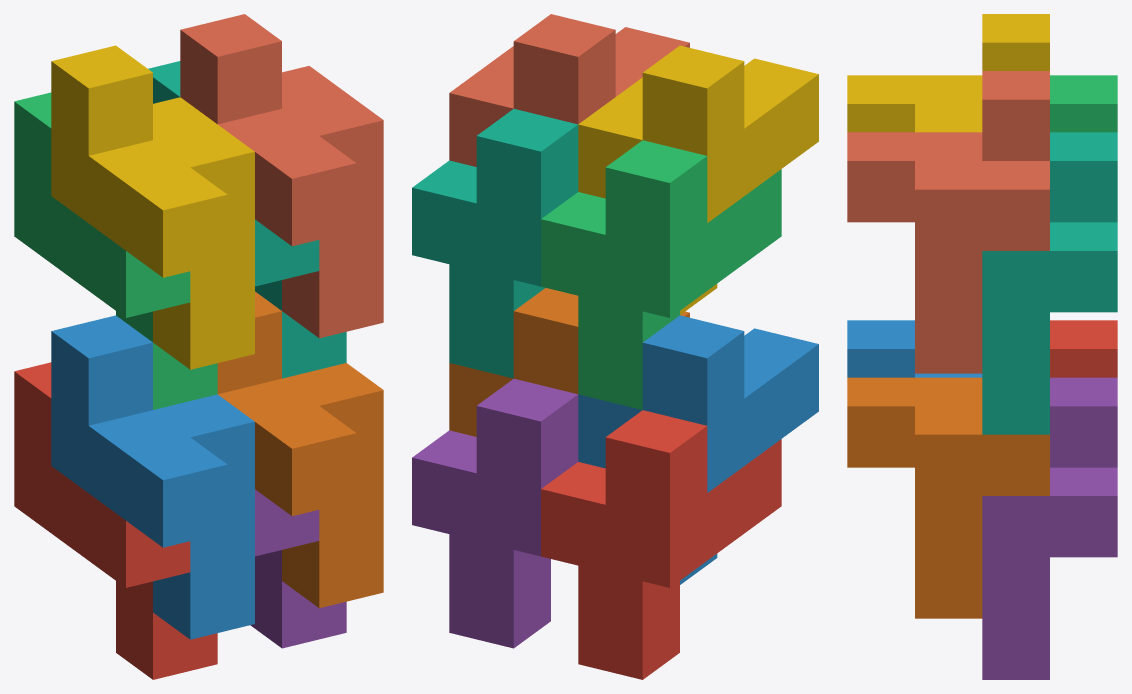
The model's file is tiling.obj.
3 views of the same model, side by side, from view 1: azimuth 30°, elevation 25°; view 2: azimuth 150°, elevation 25°; view 3: azimuth 270°, elevation 25° (orthographic). The views are drawn at different scales.
Parts seen in each view (by area): view 1: copy_1_domain_4, copy_1_domain_2, copy_1_domain_8, copy_1_domain_6, copy_1_domain_1, copy_1_domain_3, copy_1_domain_5, copy_1_domain_7; view 2: copy_1_domain_1, copy_1_domain_3, copy_1_domain_5, copy_1_domain_7, copy_1_domain_4, copy_1_domain_2, copy_1_domain_8, copy_1_domain_6; view 3: copy_1_domain_8, copy_1_domain_6, copy_1_domain_5, copy_1_domain_7, copy_1_domain_4, copy_1_domain_2, copy_1_domain_1, copy_1_domain_3.
Boxes of the visible parts, box(x1,y1,x2,y2) form: copy_1_domain_4: box(51, 45, 254, 369); copy_1_domain_2: box(51, 315, 254, 639); copy_1_domain_8: box(180, 14, 383, 338); copy_1_domain_6: box(217, 291, 383, 608); copy_1_domain_1: box(14, 362, 217, 679); copy_1_domain_3: box(14, 92, 217, 409); copy_1_domain_5: box(250, 489, 346, 648); copy_1_domain_7: box(148, 61, 346, 378); copy_1_domain_1: box(541, 410, 781, 679); copy_1_domain_3: box(541, 140, 781, 409); copy_1_domain_5: box(412, 378, 578, 648); copy_1_domain_7: box(412, 109, 578, 378); copy_1_domain_4: box(578, 45, 818, 314); copy_1_domain_2: box(578, 315, 818, 584); copy_1_domain_8: box(449, 14, 689, 166); copy_1_domain_6: box(449, 288, 689, 436); copy_1_domain_8: box(847, 71, 1049, 373); copy_1_domain_6: box(847, 377, 1049, 618); copy_1_domain_5: box(982, 377, 1117, 679); copy_1_domain_7: box(982, 132, 1117, 434); copy_1_domain_4: box(847, 14, 1049, 132); copy_1_domain_2: box(847, 320, 982, 377); copy_1_domain_1: box(1050, 320, 1117, 377); copy_1_domain_3: box(1050, 75, 1117, 132).
Size of the model in its own units: 4 by 9 by 4.
